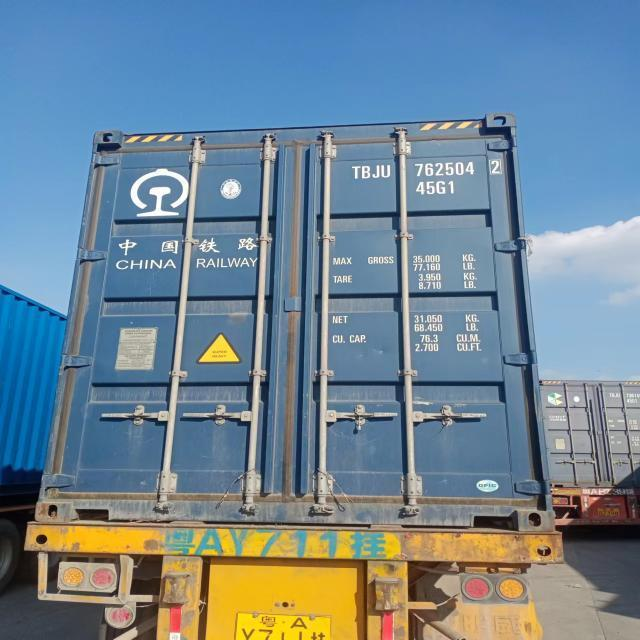ISO: (417, 180, 458, 198)
container_number: (349, 161, 506, 178)
